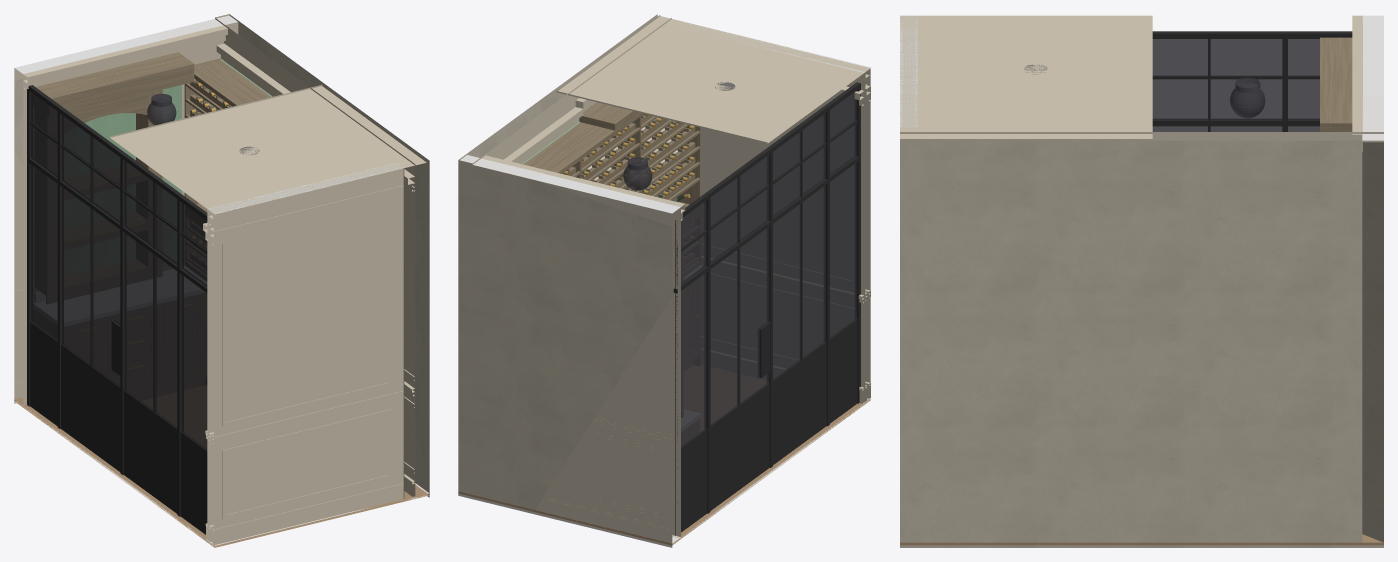
The model's file is wine-cellar-a691b09cccf6.glb.
3 views of the same model, side by side, from view 1: azimuth 30°, elevation 25°; view 2: azimuth 150°, elevation 25°; view 3: azimuth 270°, elevation 25° (orthographic). The views are drawn at different scales.
Visible parts, largest first — view 1: wine-cellar-bd4023b7987ad736, wine-cellar-cbd4bf73d9724a66, wine-cellar-2575515a05775d9e, wine-cellar-37ce92237345380e, wine-cellar-af97eba351c411ae, wine-cellar-78db8eb36c243d8d, wine-cellar-a72fb3d9723cf509, wine-cellar-bfd21f48dd17272b, wine-cellar-bfb9fa537cd11d1d, wine-cellar-7d9048c2939fac2f, wine-cellar-3b0077416469e01b, wine-cellar-8da509c3b17684ba (+26 smaller); view 2: wine-cellar-bfb9fa537cd11d1d, wine-cellar-cbd4bf73d9724a66, wine-cellar-bd4023b7987ad736, wine-cellar-005133a37c0fb221, wine-cellar-2575515a05775d9e, wine-cellar-37ce92237345380e, wine-cellar-e3187d55cf540128, wine-cellar-3b0077416469e01b, wine-cellar-af97eba351c411ae, wine-cellar-738c105197442a48, wine-cellar-f2a242bb00ea19a7, wine-cellar-b50f223d50a24895 (+22 smaller); view 3: wine-cellar-af97eba351c411ae, wine-cellar-2575515a05775d9e, wine-cellar-cbd4bf73d9724a66, wine-cellar-005133a37c0fb221, wine-cellar-7d9048c2939fac2f, wine-cellar-3b0077416469e01b, wine-cellar-bd4023b7987ad736, wine-cellar-bfb9fa537cd11d1d, wine-cellar-da912f3793a4069b, wine-cellar-76fec1e12e3db62a, wine-cellar-8da509c3b17684ba, wine-cellar-fed6ebc8ebca3bd7 (+2 smaller).
Part boxes in pixels (x1=…): wine-cellar-bd4023b7987ad736: x1=207, y1=163, x2=404, y2=545; wine-cellar-cbd4bf73d9724a66: x1=30, y1=85, x2=207, y2=450; wine-cellar-2575515a05775d9e: x1=110, y1=85, x2=426, y2=214; wine-cellar-37ce92237345380e: x1=30, y1=321, x2=207, y2=534; wine-cellar-af97eba351c411ae: x1=215, y1=14, x2=429, y2=496; wine-cellar-78db8eb36c243d8d: x1=35, y1=89, x2=162, y2=303; wine-cellar-a72fb3d9723cf509: x1=34, y1=85, x2=181, y2=301; wine-cellar-bfd21f48dd17272b: x1=68, y1=299, x2=202, y2=389; wine-cellar-bfb9fa537cd11d1d: x1=14, y1=34, x2=160, y2=405; wine-cellar-7d9048c2939fac2f: x1=34, y1=52, x2=194, y2=116; wine-cellar-3b0077416469e01b: x1=14, y1=386, x2=429, y2=547; wine-cellar-8da509c3b17684ba: x1=23, y1=25, x2=227, y2=89; wine-cellar-bfb9fa537cd11d1d: x1=535, y1=174, x2=680, y2=543; wine-cellar-cbd4bf73d9724a66: x1=675, y1=83, x2=857, y2=535; wine-cellar-bd4023b7987ad736: x1=677, y1=22, x2=871, y2=402; wine-cellar-005133a37c0fb221: x1=458, y1=158, x2=543, y2=509; wine-cellar-2575515a05775d9e: x1=556, y1=15, x2=869, y2=143; wine-cellar-37ce92237345380e: x1=681, y1=319, x2=857, y2=532; wine-cellar-e3187d55cf540128: x1=562, y1=114, x2=699, y2=269; wine-cellar-3b0077416469e01b: x1=458, y1=365, x2=870, y2=545; wine-cellar-af97eba351c411ae: x1=458, y1=14, x2=671, y2=164; wine-cellar-738c105197442a48: x1=523, y1=112, x2=643, y2=173; wine-cellar-f2a242bb00ea19a7: x1=705, y1=193, x2=710, y2=513; wine-cellar-b50f223d50a24895: x1=824, y1=105, x2=829, y2=426; wine-cellar-af97eba351c411ae: x1=900, y1=132, x2=1383, y2=542; wine-cellar-2575515a05775d9e: x1=900, y1=15, x2=1152, y2=140; wine-cellar-cbd4bf73d9724a66: x1=1152, y1=32, x2=1351, y2=131; wine-cellar-005133a37c0fb221: x1=1362, y1=96, x2=1383, y2=542; wine-cellar-7d9048c2939fac2f: x1=1320, y1=37, x2=1352, y2=131; wine-cellar-3b0077416469e01b: x1=900, y1=534, x2=1383, y2=545; wine-cellar-bd4023b7987ad736: x1=900, y1=15, x2=917, y2=127; wine-cellar-bfb9fa537cd11d1d: x1=1362, y1=15, x2=1383, y2=96; wine-cellar-da912f3793a4069b: x1=1152, y1=31, x2=1352, y2=38; wine-cellar-76fec1e12e3db62a: x1=900, y1=545, x2=1383, y2=547; wine-cellar-8da509c3b17684ba: x1=1352, y1=15, x2=1362, y2=151; wine-cellar-fed6ebc8ebca3bd7: x1=1152, y1=119, x2=1319, y2=126.
Size of the model in its own units: 2.03 by 3.05 by 3.28.
Materials: 24 (7 with a texture image).
